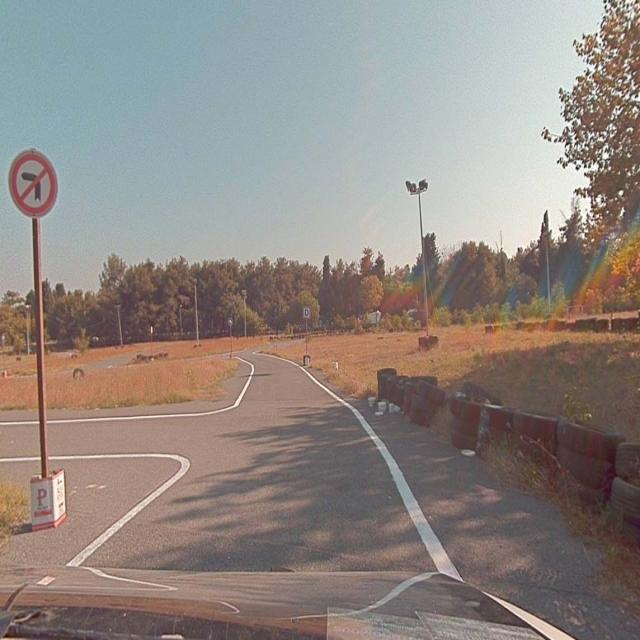durak: (304, 308, 310, 318)
soladonulmez: (10, 153, 58, 215)
